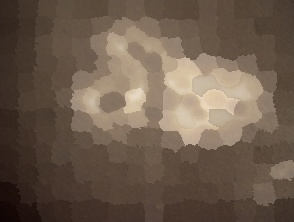vitiligo: (49, 7, 291, 187)
